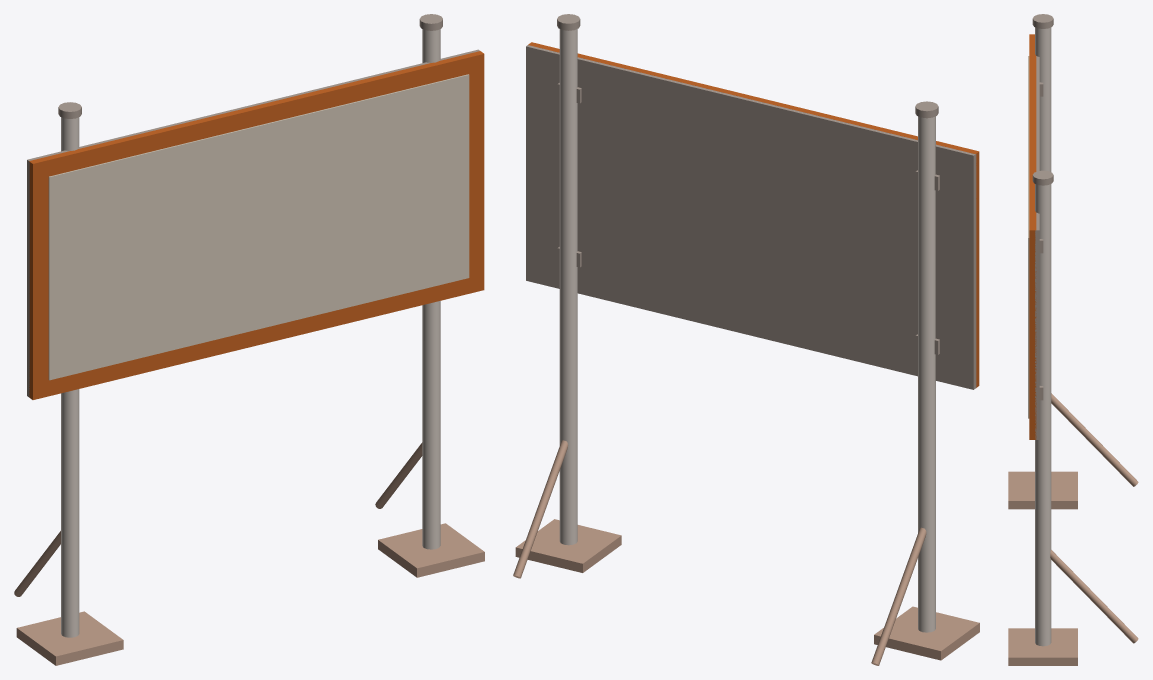
File: D15_blank_sign.glb
3 views of the same model, side by side, from view 1: azimuth 30°, elevation 25°; view 2: azimuth 150°, elevation 25°; view 3: azimuth 270°, elevation 25° (orthographic). The views are drawn at different scales.
Visible parts, largest first — view 1: sign_border, post, foot_plate, post_cap; view 2: post_cap, post, foot_plate, sign_border; view 3: post, foot_plate, sign_border, post_cap.
Boxes of the visible parts, x1=… form: sign_border: x1=29, y1=51, x2=484, y2=399; post: x1=61, y1=29, x2=440, y2=637; foot_plate: x1=14, y1=442, x2=484, y2=665; post_cap: x1=27, y1=14, x2=479, y2=397; post_cap: x1=526, y1=14, x2=976, y2=389; post: x1=559, y1=29, x2=935, y2=632; foot_plate: x1=513, y1=440, x2=979, y2=665; sign_border: x1=528, y1=42, x2=979, y2=387; post: x1=1035, y1=27, x2=1051, y2=646; foot_plate: x1=1008, y1=393, x2=1138, y2=665; sign_border: x1=1028, y1=34, x2=1036, y2=439; post_cap: x1=1032, y1=14, x2=1053, y2=439.
Size of the model in its own units: 2 by 2.27 by 0.5621.
